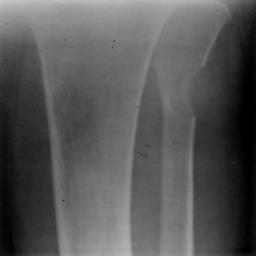cancer: (168, 70, 220, 120)
